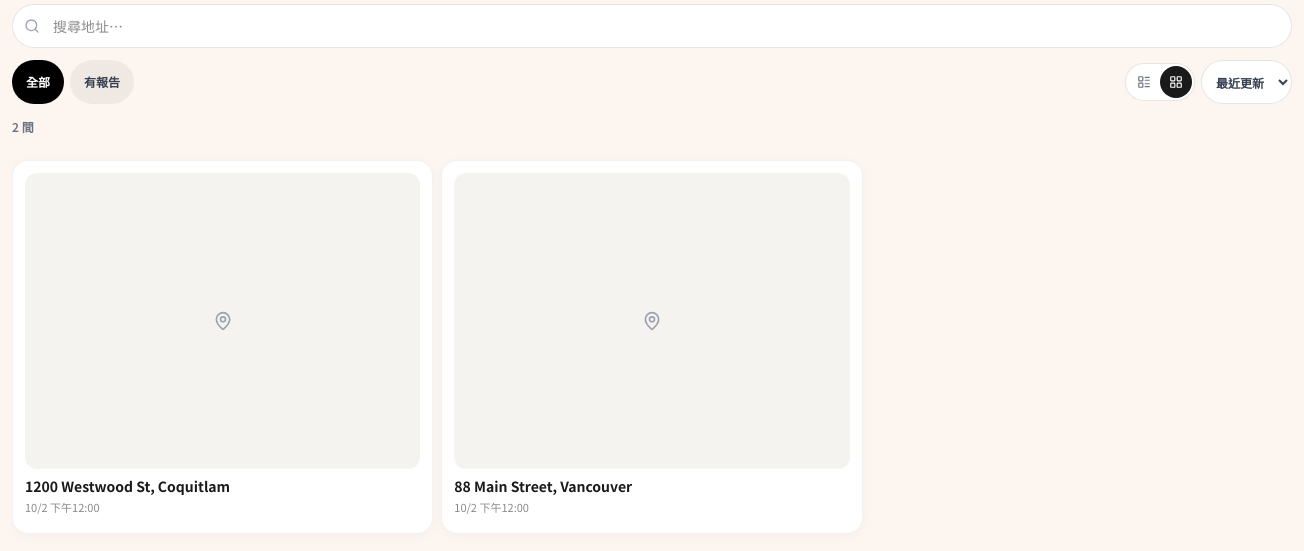
ViewingsIndex › filters by search and shows empty-search copy
Expected: the text "1200 Westwood St, Coquitlam" is shown, [25,476,230,496]
Type "no-match-xyz" into the field with placeholder "搜尋地址…".
click(652, 26); type("no-match-xyz")  # box [12,4,1292,48]
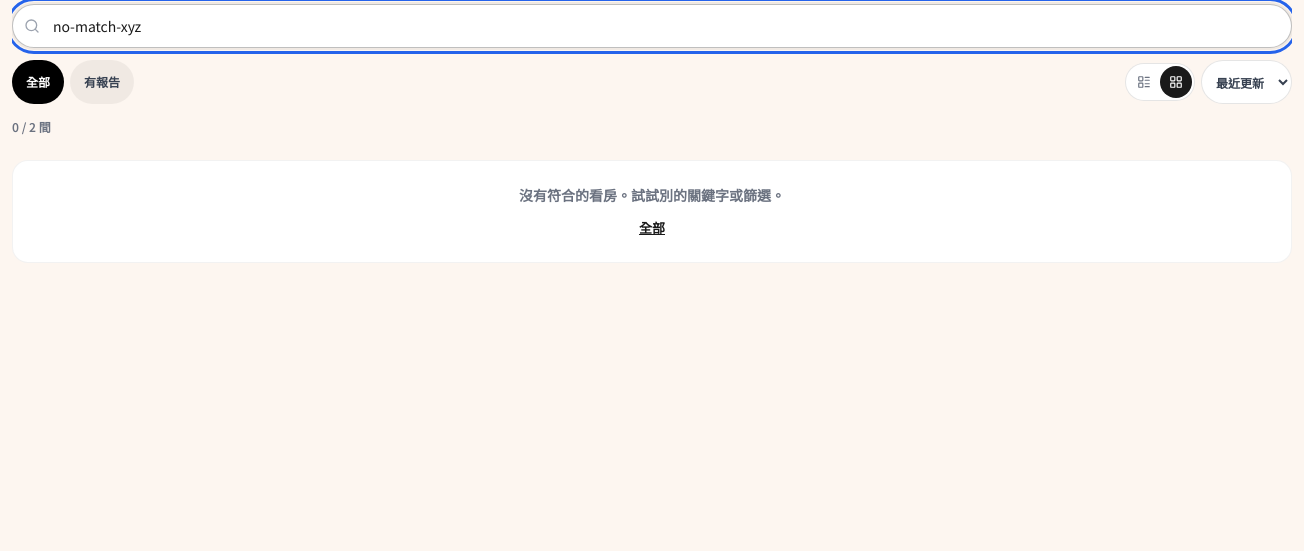
Expected: the text "沒有符合的看房。試試別的關鍵字或篩選。" is shown, [519,185,785,205]
